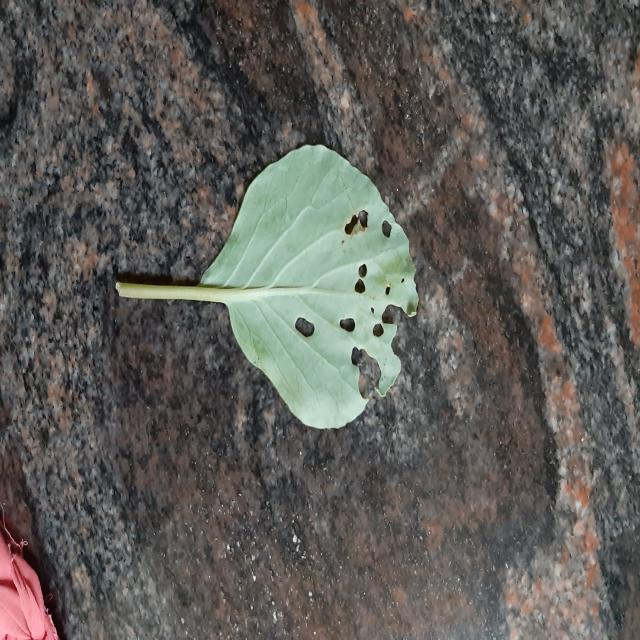Kohlrabi: (116, 144, 419, 429)
